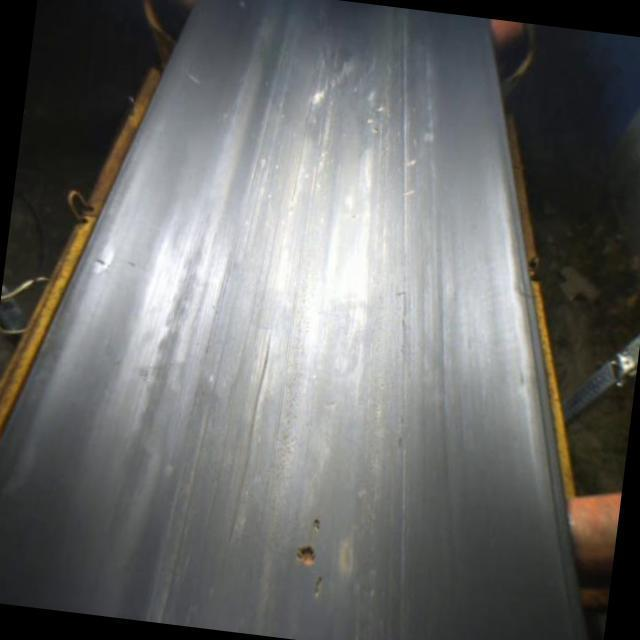Hole: (294, 544, 318, 568)
Puncture: (308, 516, 322, 534)
Tear: (311, 576, 327, 598)
